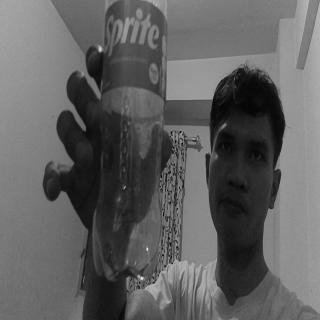plastic_bottles: (92, 0, 168, 287)
